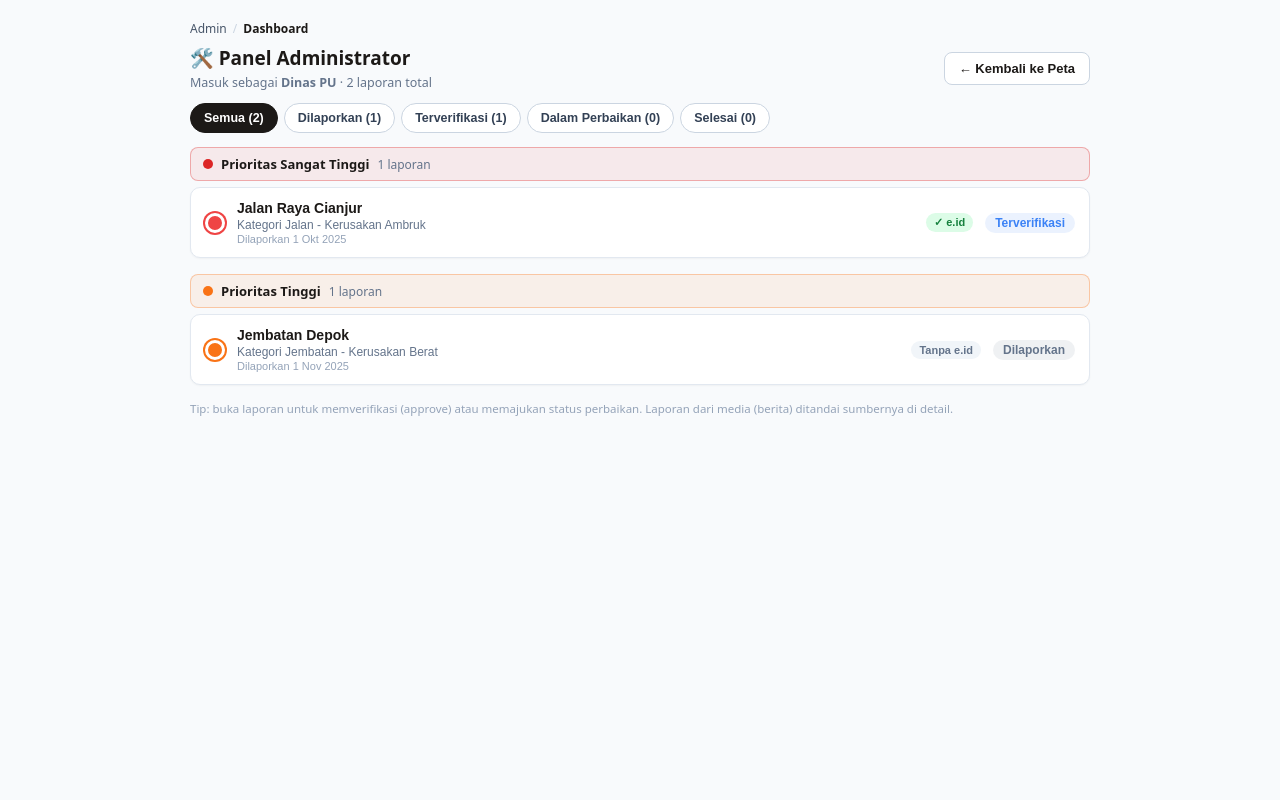
AdminView: panel otoritas (organize + verifikasi + tracking status) › klik baris laporan membuka DetailModal (verifikasi / tracking status)
Click the text "Jembatan Depok" at (293, 335), box [237,327,349,343]
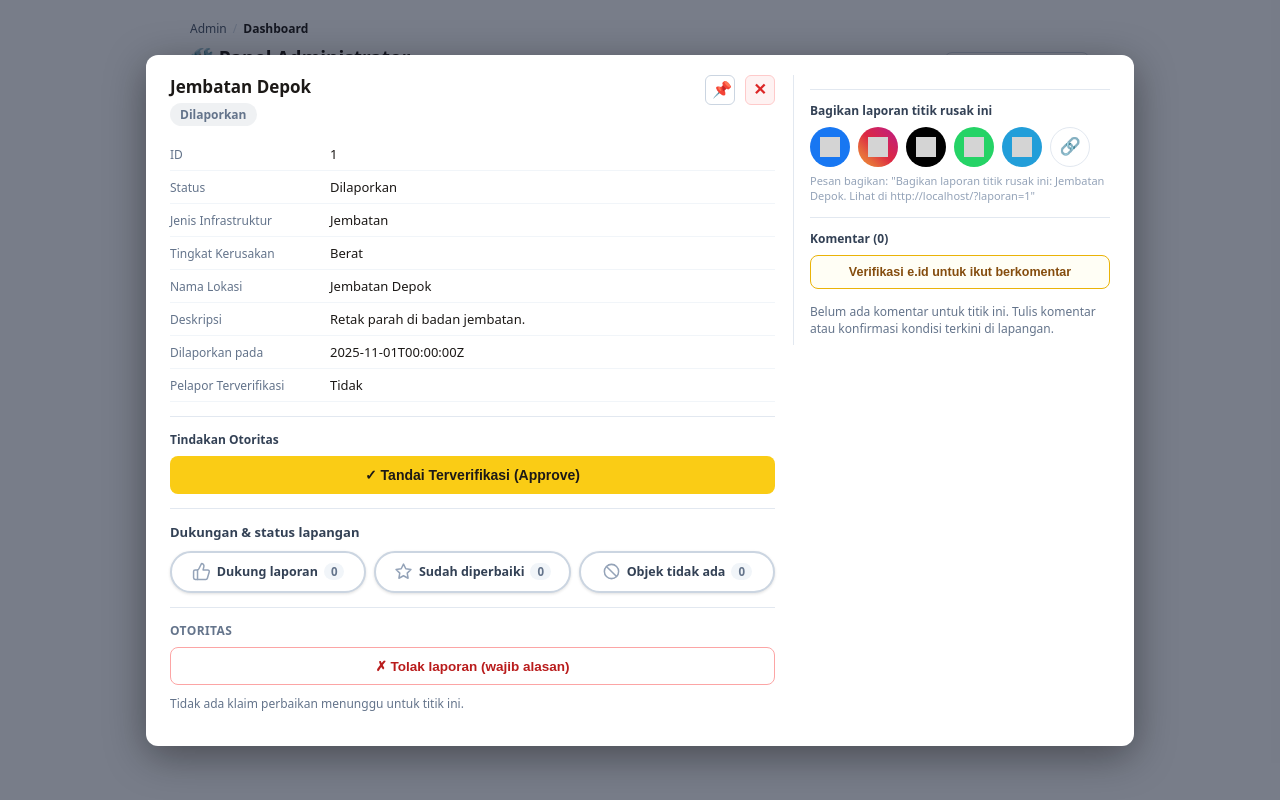
Result: the heading "Jembatan Depok" is shown at [170,74,311,98]
Result: the button "✓ Tandai Terverifikasi (Approve)" is shown at [170,456,775,494]
Result: the text "Dukungan & status lapangan" is shown at [170,522,360,540]
